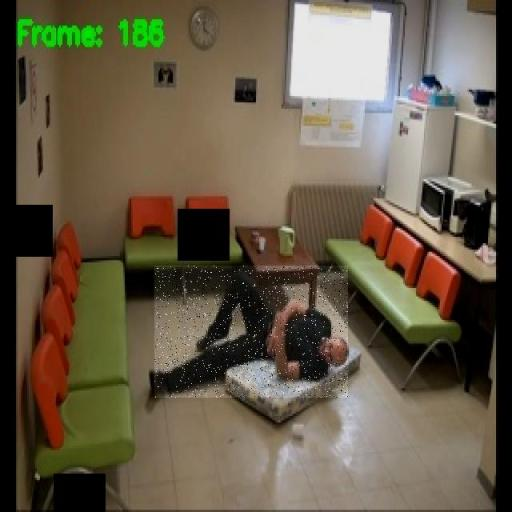Fall: (154, 266, 348, 398)
